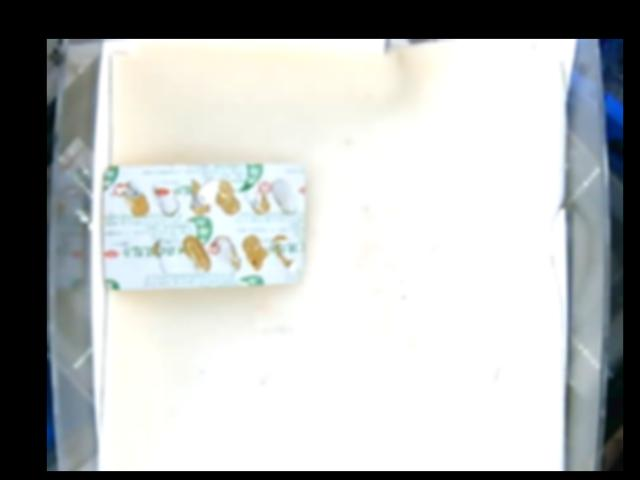Medicine: (99, 163, 307, 292)
